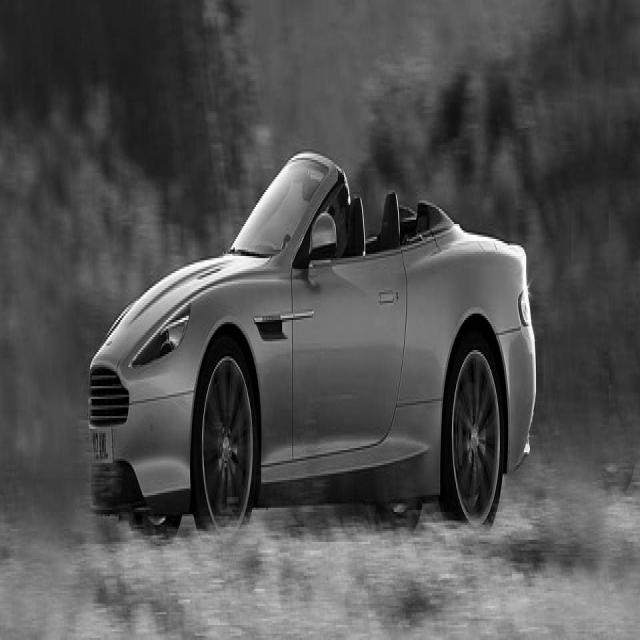car: (87, 150, 537, 534)
